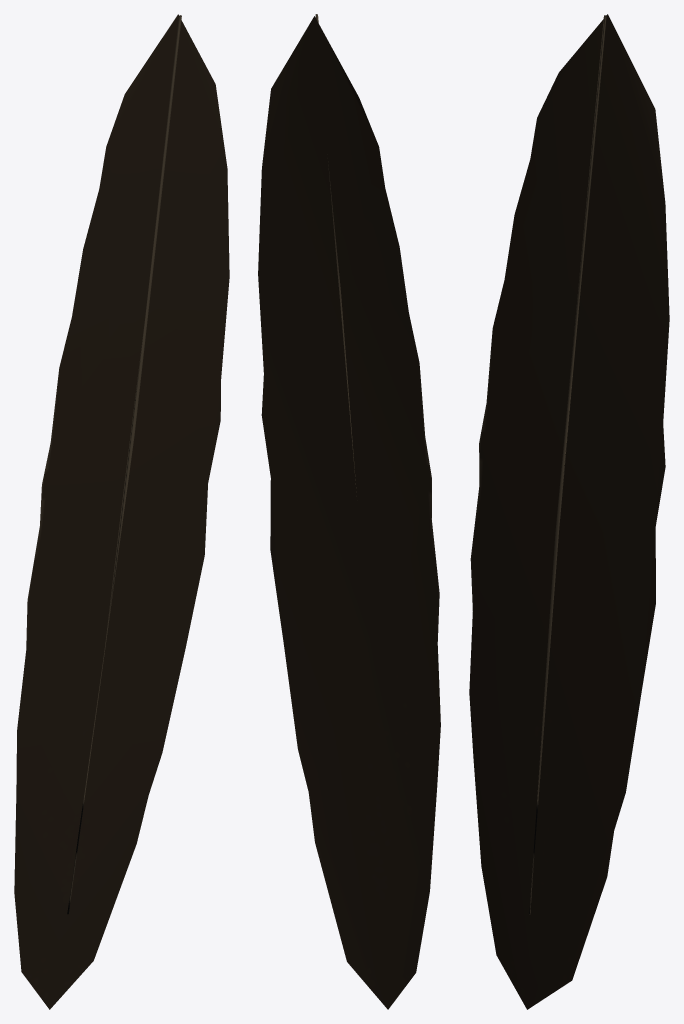
The model's file is bird_rectrix_04.obj.
3 renders of one model, left to right at view 1: azimuth 30°, elevation 25°; view 2: azimuth 150°, elevation 25°; view 3: azimuth 330°, elevation 25°, orthographic. The views are drawn at different scales.
Visible parts, largest first — view 1: PIECE_BIRD_RECTRIX_RIG_04; view 2: PIECE_BIRD_RECTRIX_RIG_04; view 3: PIECE_BIRD_RECTRIX_RIG_04.
Part boxes in pixels (box(x1,y1,x2,y2)): PIECE_BIRD_RECTRIX_RIG_04: box(14, 14, 229, 1009); PIECE_BIRD_RECTRIX_RIG_04: box(258, 14, 440, 1009); PIECE_BIRD_RECTRIX_RIG_04: box(469, 14, 669, 1009).
Size of the model in its own units: 0.0393 by 0.1846 by 0.00965.
1 material, 1 textured.
